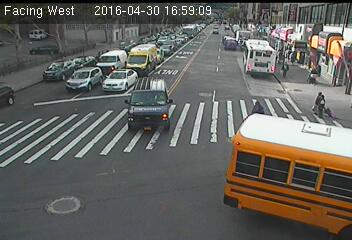neg: (289, 10, 309, 36), (26, 47, 45, 72), (171, 58, 190, 83), (197, 49, 215, 73), (238, 49, 254, 71), (312, 13, 328, 34), (52, 71, 65, 89), (264, 32, 276, 49), (89, 38, 100, 52)
pos: (312, 93, 332, 120), (246, 98, 264, 122), (278, 59, 293, 80), (307, 66, 321, 84)
